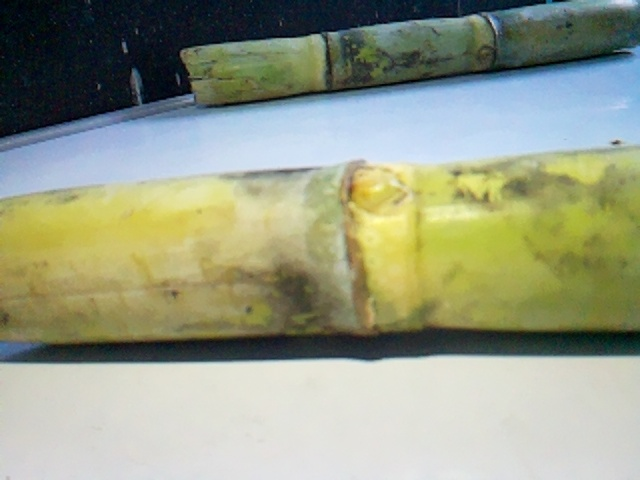Good Sugarcane: (0, 140, 634, 347)
Node: (309, 155, 444, 339)
